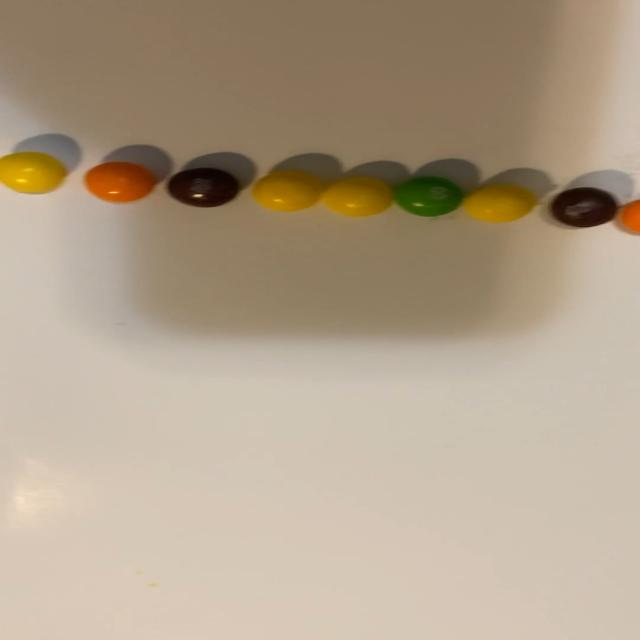smartie: (83, 161, 155, 202), (252, 171, 323, 211), (167, 167, 238, 207), (464, 184, 537, 222), (394, 176, 463, 216), (0, 151, 65, 193), (322, 177, 392, 216), (552, 187, 617, 227)
